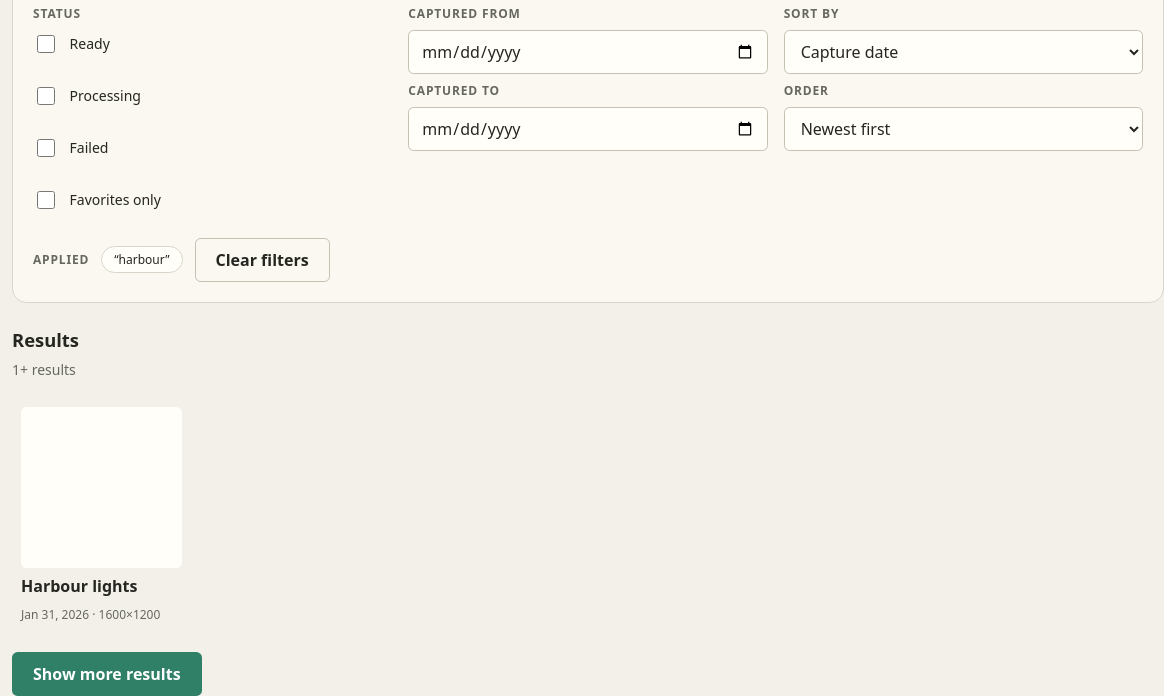
search › continues from the returned cursor without losing earlier matches
(page scrolled)
What coordinates should you click on to do the following:
click the button "Show more results"
I would click on:
 (107, 674)
Its box is [12,652,202,695].
(page scrolled)
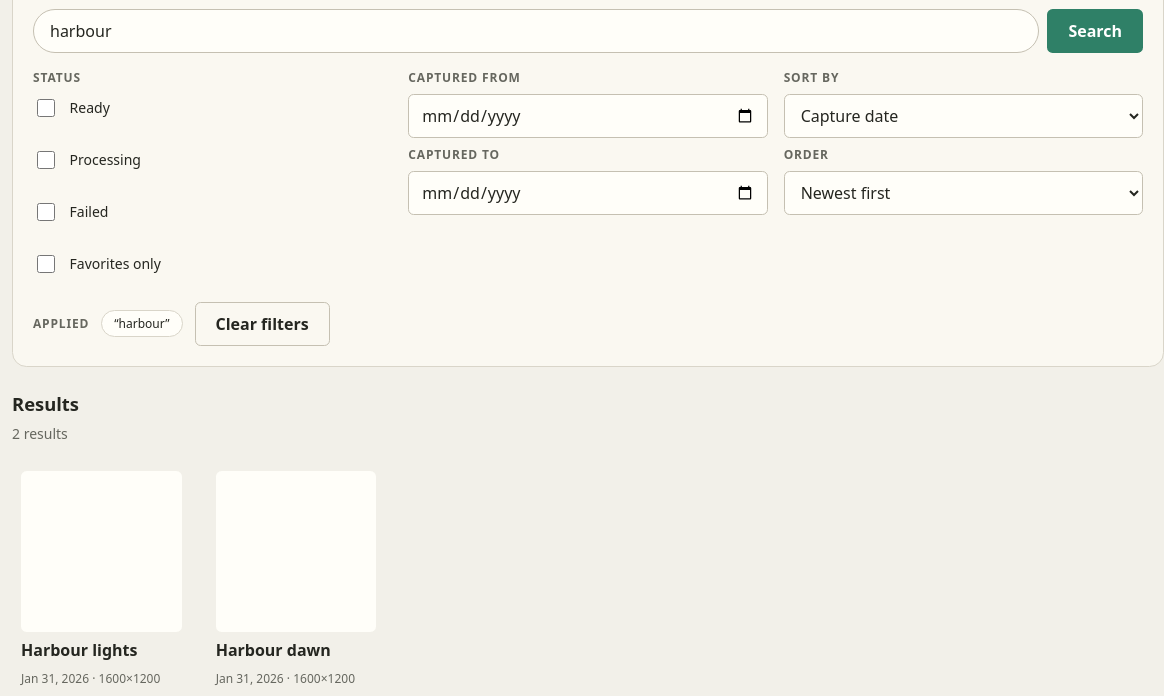
Check: the button "Show more results" is gone
